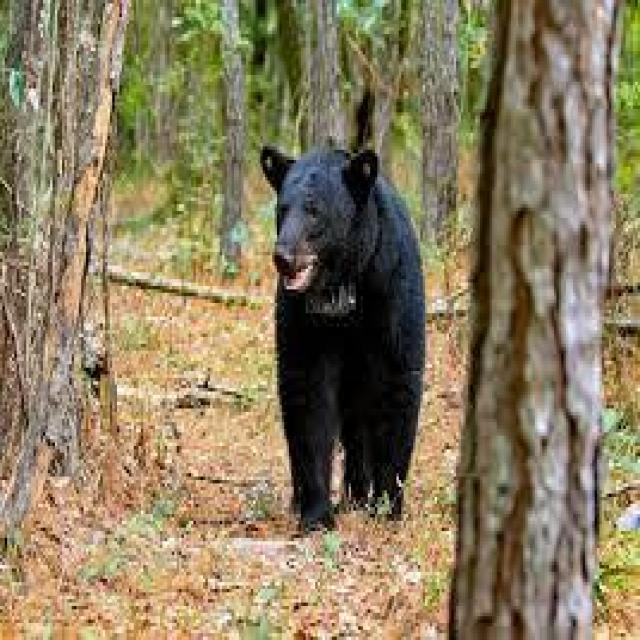Bear: (258, 146, 427, 531)
